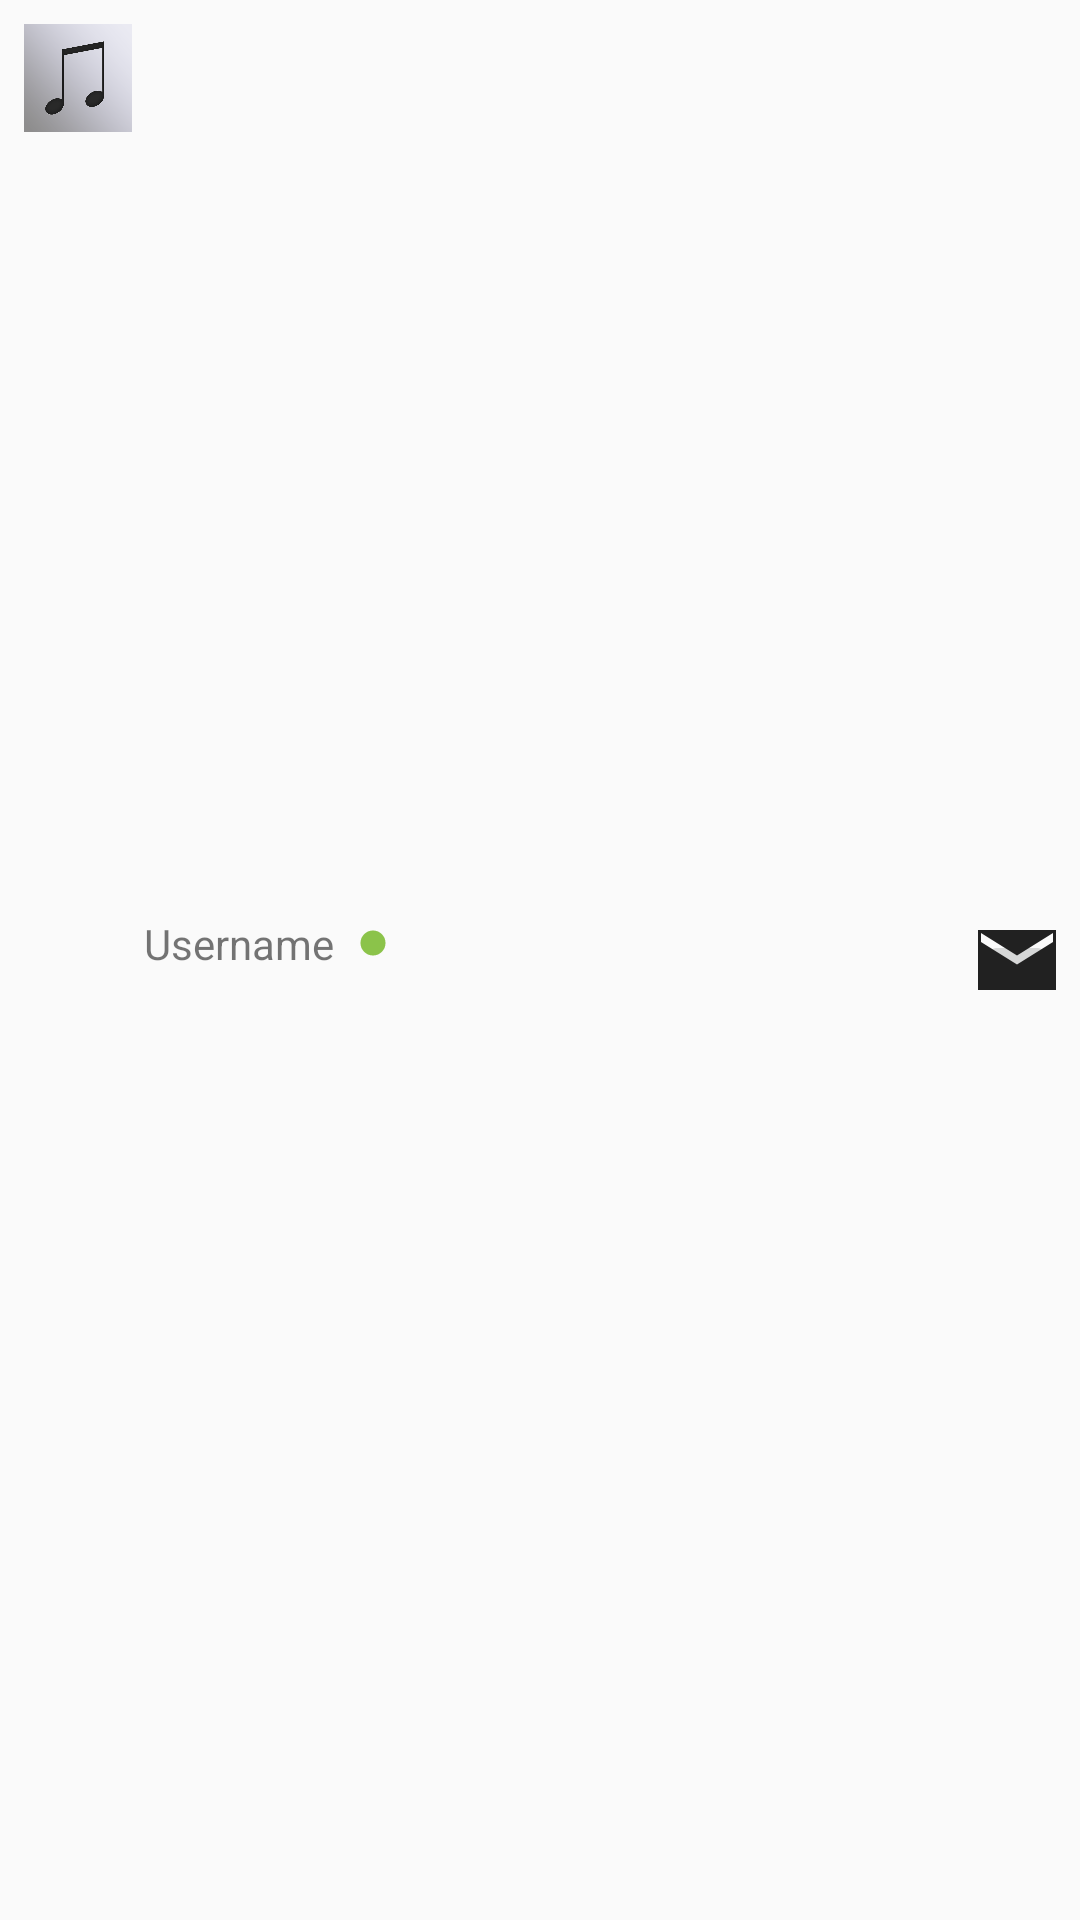

Screen size 1080px x 1920px. Icon name, then its box in pixels as (x1, y1, x2, y2):
email: (978, 930, 1056, 990)
nocover: (24, 24, 132, 132)
